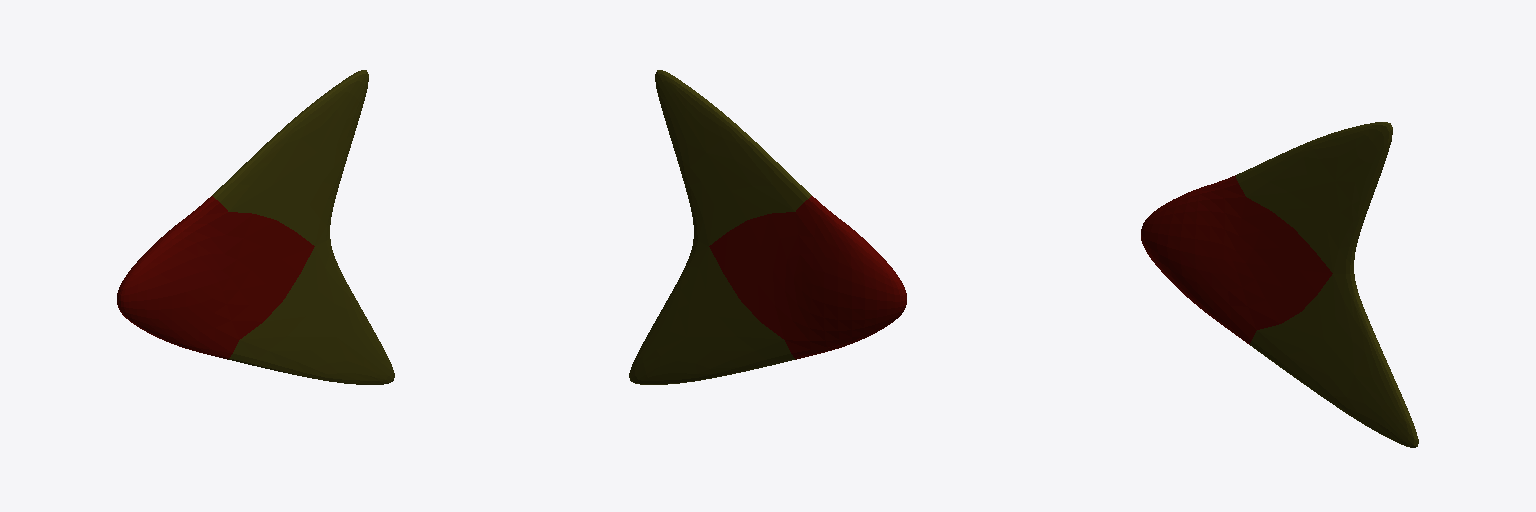
File: salmonTail.obj
The picture shows the model from 3 angles: view 1: azimuth 30°, elevation 25°; view 2: azimuth 150°, elevation 25°; view 3: azimuth 330°, elevation 25°; orthographic projection.
Visible parts, largest first — view 1: Cube.001; view 2: Cube.001; view 3: Cube.001.
Boxes of the visible parts, x1,y1,x2,y2 form: Cube.001: [117, 70, 394, 384]; Cube.001: [629, 70, 906, 384]; Cube.001: [1141, 122, 1418, 447].
Size of the model in its own units: 0.9505 by 1.05 by 0.0959.